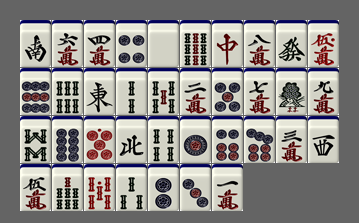0m: (308, 20, 339, 67)
0p: (84, 116, 115, 163)
0s: (84, 164, 115, 211)
1m: (212, 164, 243, 211)
1p: (180, 116, 211, 163)
1s: (276, 68, 307, 115)
1z: (84, 68, 115, 115)
2m: (180, 68, 211, 115)
2p: (148, 164, 179, 211)
2s: (116, 68, 147, 115)
2z: (20, 20, 51, 67)
3m: (276, 116, 307, 163)
3p: (180, 164, 211, 211)
3s: (116, 164, 147, 211)
3z: (308, 116, 339, 163)
4m: (84, 20, 115, 67)
4p: (116, 20, 147, 67)
4s: (148, 116, 179, 163)
4z: (116, 116, 147, 163)
5m: (20, 164, 51, 211)
5p: (212, 68, 243, 115)
5s: (148, 68, 179, 115)
5z: (148, 20, 179, 67)
6m: (52, 20, 83, 67)
6p: (212, 116, 243, 163)
6s: (52, 68, 83, 115)
6z: (276, 20, 307, 67)
7m: (244, 68, 275, 115)
7p: (244, 116, 275, 163)
7s: (52, 164, 83, 211)
7z: (212, 20, 243, 67)
8m: (244, 20, 275, 67)
8p: (52, 116, 83, 163)
8s: (20, 116, 51, 163)
9m: (308, 68, 339, 115)
9p: (20, 68, 51, 115)
9s: (180, 20, 211, 67)
